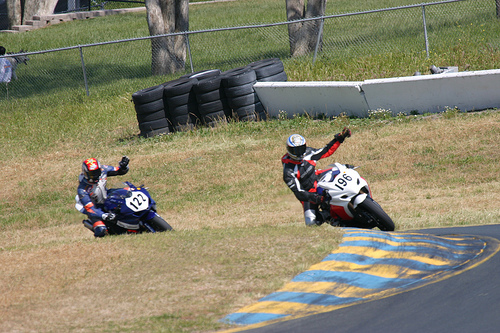helmet: (80, 157, 106, 178), (285, 137, 311, 156)
